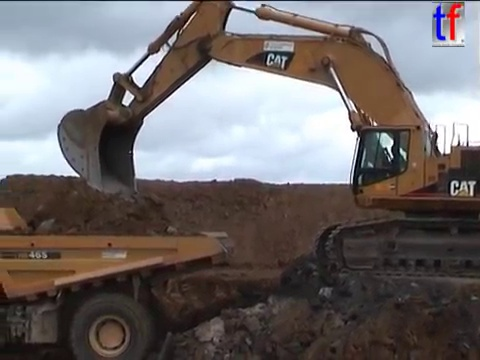excavator: (52, 1, 480, 282)
truck: (1, 202, 238, 360)
